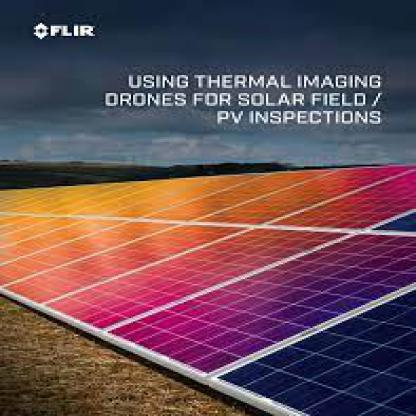Defects: (15, 188, 175, 212)
